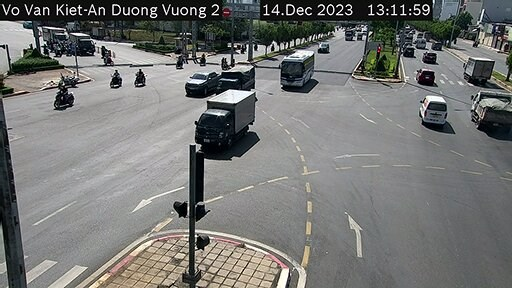car: (278, 49, 316, 96), (418, 96, 450, 126), (191, 63, 218, 98), (413, 65, 433, 88), (318, 40, 336, 57), (424, 48, 437, 68)
motorbike: (51, 81, 75, 110), (104, 67, 120, 88), (132, 66, 145, 88)
truck: (205, 86, 251, 150), (469, 89, 512, 129), (222, 60, 263, 93), (467, 53, 492, 85), (70, 32, 97, 56)
